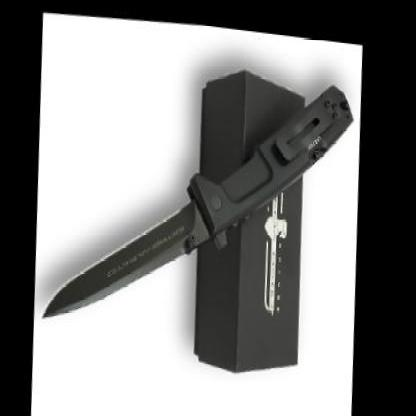knife: (37, 171, 224, 333)
